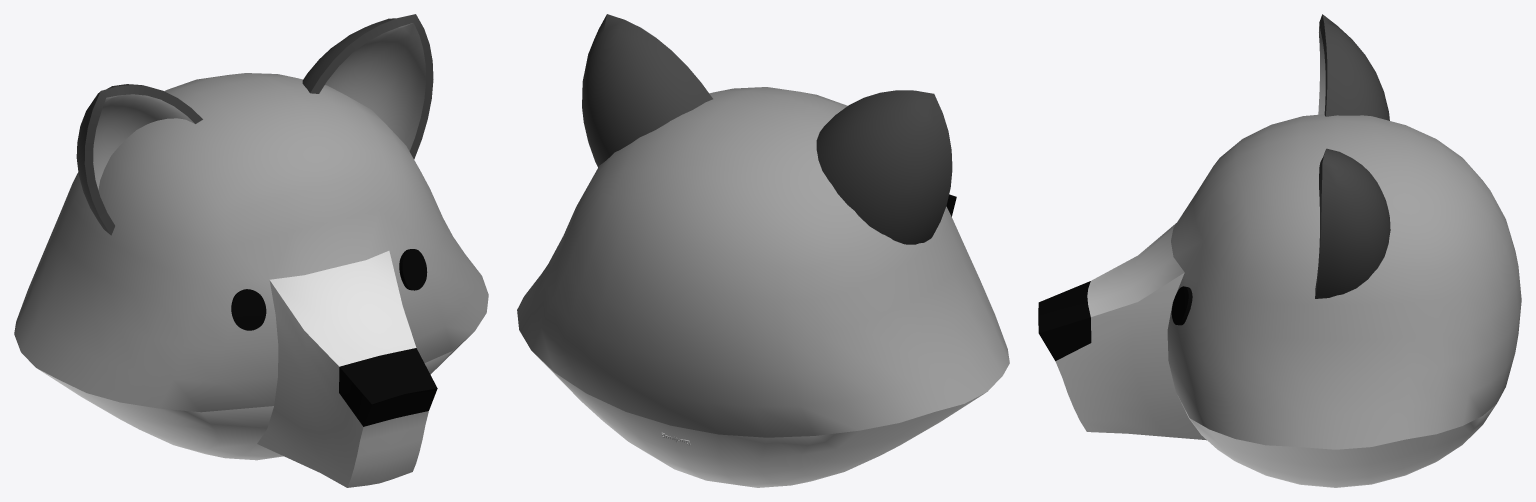
The model's file is wolf.glb.
The picture shows the model from 3 angles, left to right: view 1: azimuth 30°, elevation 25°; view 2: azimuth 150°, elevation 25°; view 3: azimuth 270°, elevation 25°; orthographic projection. The views are drawn at different scales.
Parts seen in each view (by area): view 1: Cube.6183, Cube.6184, Circle.1845; view 2: Cube.6183, Cube.6184; view 3: Cube.6183, Cube.6184, Circle.1845.
Boxes of the visible parts, x1,y1,x2,y2 form: Cube.6183: (14, 73, 488, 487); Cube.6184: (76, 14, 433, 235); Circle.1845: (231, 249, 427, 330); Cube.6183: (517, 87, 1009, 487); Cube.6184: (582, 14, 952, 244); Cube.6183: (1038, 114, 1521, 487); Cube.6184: (1315, 14, 1390, 298); Circle.1845: (1171, 286, 1192, 325).
Bounding box in the file's own units: 2.18 × 1.89 × 2.18.
Materials: 1 (1 with a texture image).
